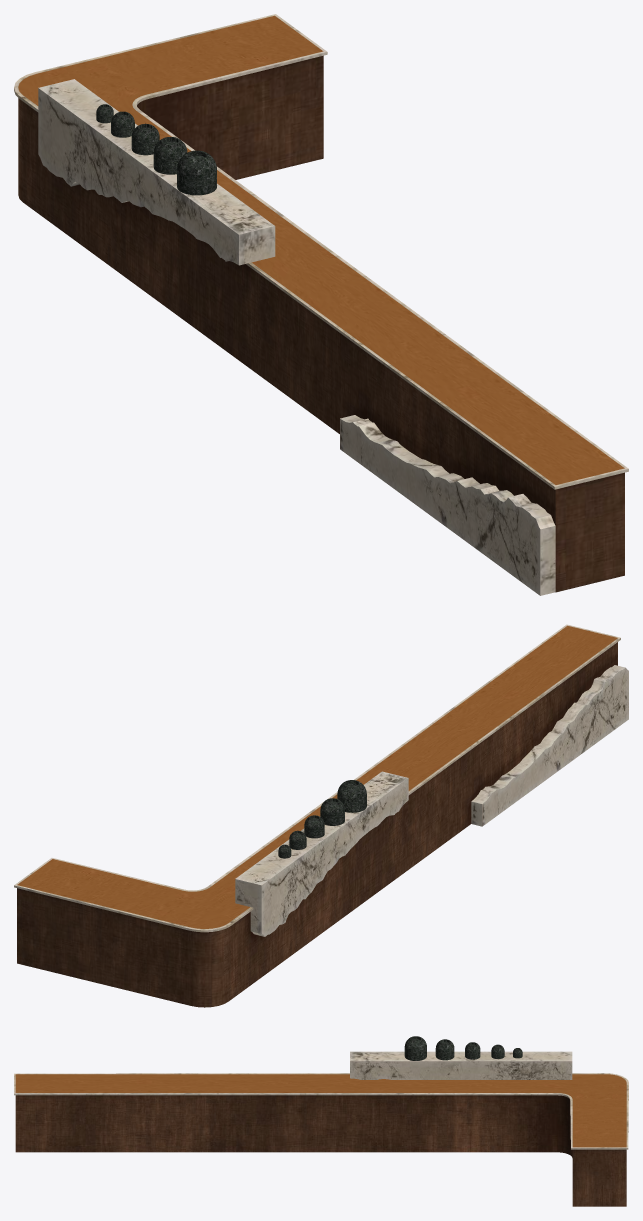
Rendered from desk.glb.
The picture shows the model from 3 angles, top to bottom: view 1: azimuth 30°, elevation 25°; view 2: azimuth 150°, elevation 25°; view 3: azimuth 270°, elevation 25°; orthographic projection. The views are drawn at different scales.
Parts seen in each view (by area): view 1: model_25.001_Plate.002, model_25.001_Plate.003, model_25.001_Plate.001, Cylinder.004, Cylinder.003; view 2: model_25.001_Plate.002, model_25.001_Plate.003, model_25.001_Plate.001, Cylinder.004, Cylinder.003; view 3: model_25.001_Plate.002, model_25.001_Plate.003, model_25.001_Plate.001, Cylinder.004, Cylinder.003.
Boxes of the visible parts, x1,y1,x2,y2 form: model_25.001_Plate.002: (18,55,624,595); model_25.001_Plate.003: (18,15,624,484); model_25.001_Plate.001: (14,14,628,489); Cylinder.004: (177,150,216,195); Cylinder.003: (153,137,187,174); model_25.001_Plate.002: (17,642,628,1007); model_25.001_Plate.003: (17,625,617,928); model_25.001_Plate.001: (14,624,620,932); Cylinder.004: (337,780,366,812); Cylinder.003: (320,798,344,825); model_25.001_Plate.002: (15,1051,626,1206); model_25.001_Plate.003: (15,1074,626,1147); model_25.001_Plate.001: (14,1073,628,1149); Cylinder.004: (404,1036,426,1060); Cylinder.003: (435,1039,454,1060).
Bounding box in the file's own units: 0.5545 × 0.3165 × 1.85.
Materials: 4 (4 with a texture image).
